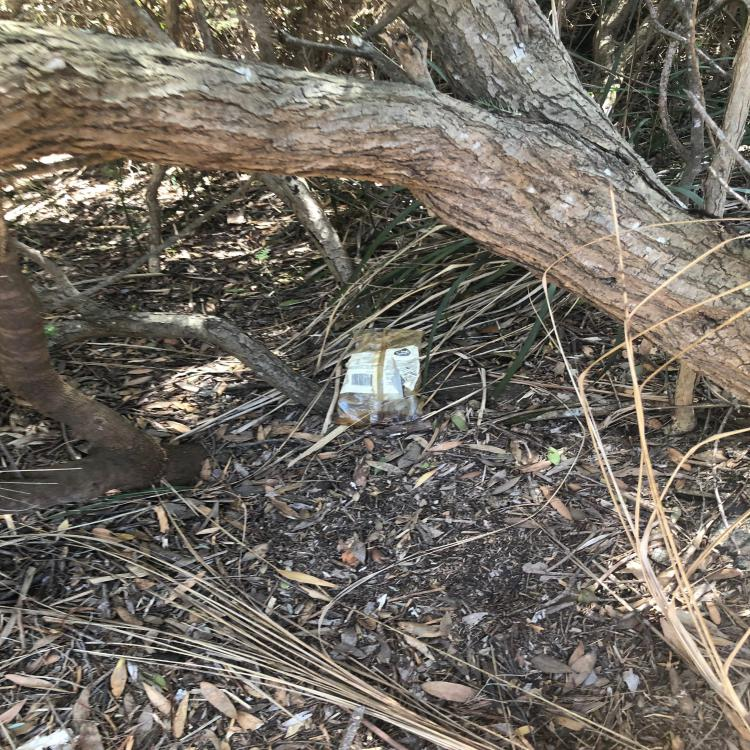Plastic film: (335, 328, 425, 426)
